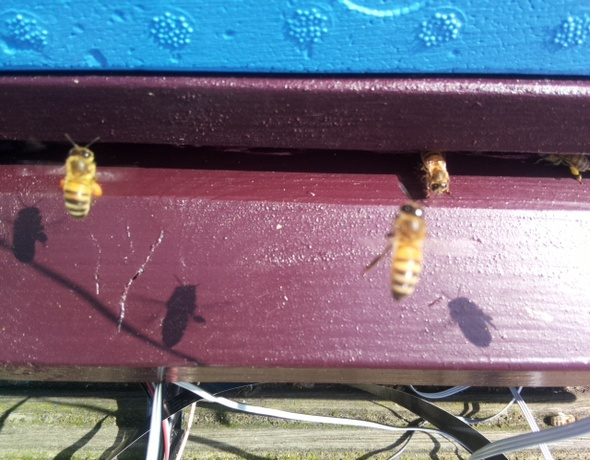no_pollen: (387, 201, 428, 306), (416, 148, 456, 201)
pollen: (56, 135, 108, 221), (535, 147, 590, 185)
